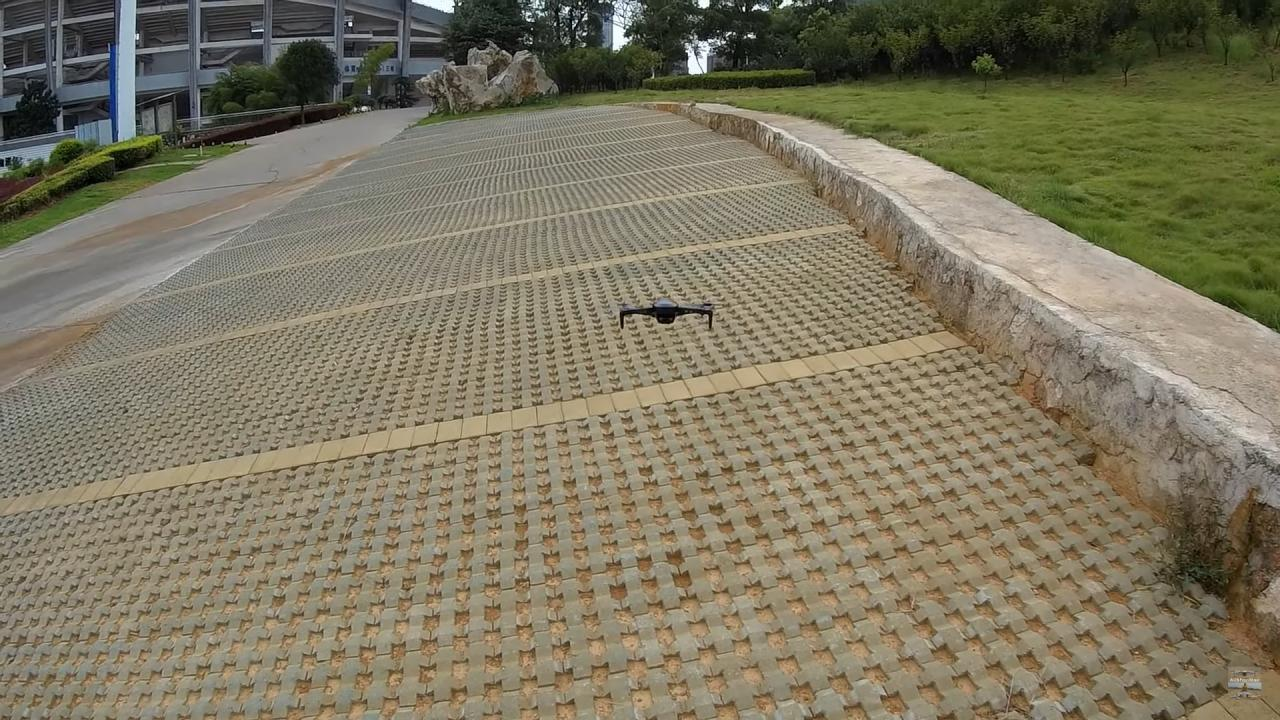Drone: (608, 286, 724, 342)
